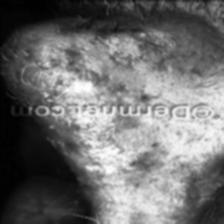Unclassified: (76, 128, 126, 174), (114, 26, 159, 52)
